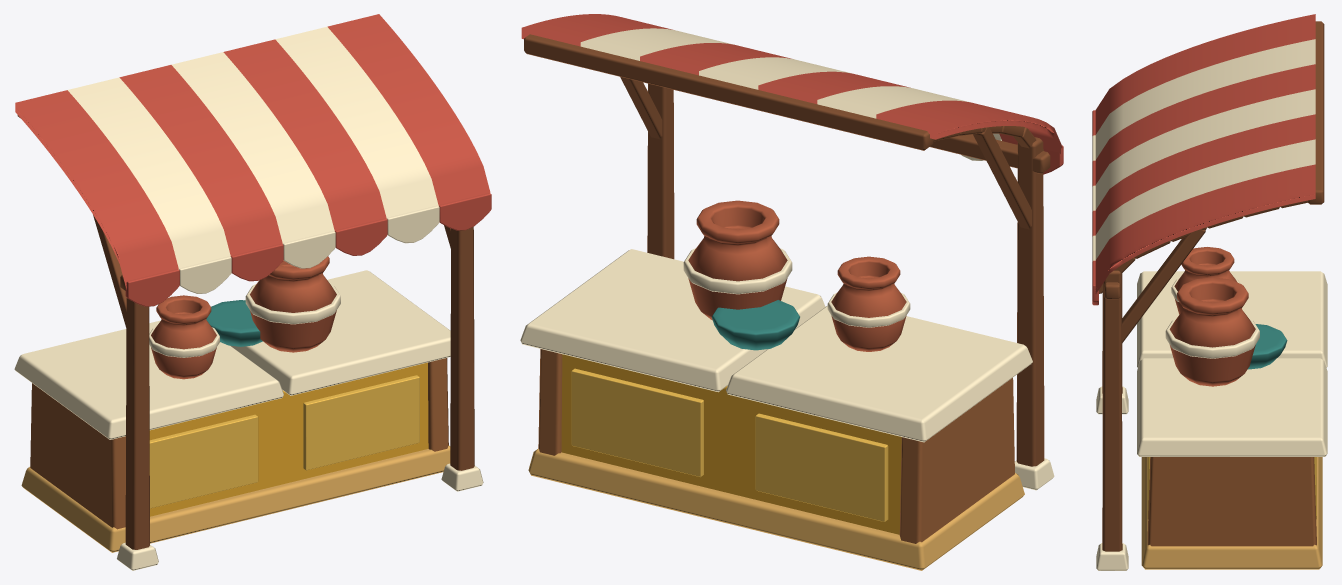
The model's file is a_stall_south.glb.
The picture shows the model from 3 angles, left to right: view 1: azimuth 30°, elevation 25°; view 2: azimuth 150°, elevation 25°; view 3: azimuth 270°, elevation 25°; orthographic projection. The views are drawn at different scales.
Parts seen in each view (by area): view 1: a_stall_south; view 2: a_stall_south; view 3: a_stall_south.
Boxes of the visible parts, x1=… form: a_stall_south: x1=14, y1=14, x2=491, y2=570; a_stall_south: x1=520, y1=14, x2=1063, y2=570; a_stall_south: x1=1092, y1=14, x2=1327, y2=570.
Size of the model in its own units: 2.98 by 3.05 by 1.69.
